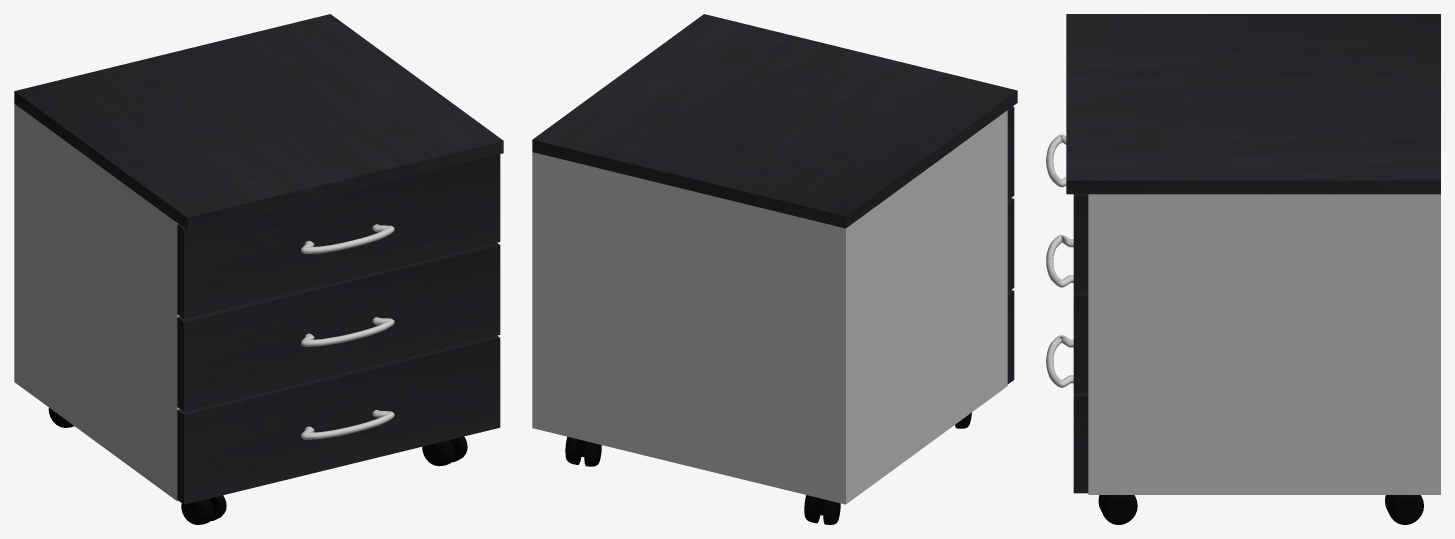
The model's file is sh-lp-cassettiera-w.glb.
3 views of the same model, side by side, from view 1: azimuth 30°, elevation 25°; view 2: azimuth 150°, elevation 25°; view 3: azimuth 270°, elevation 25° (orthographic). The views are drawn at different scales.
Visible parts, largest first — view 1: Box62_1, Box66_5, Line44_6; view 2: Box66_5, Box62_1, Line44_6; view 3: Box66_5, Box62_1, Line44_6.
Part boxes in pixels (x1,y1,x2,y2): Box62_1: (14, 14, 503, 504); Box66_5: (14, 104, 394, 501); Line44_6: (48, 408, 467, 524); Box66_5: (532, 110, 1007, 504); Box62_1: (532, 14, 1017, 384); Line44_6: (565, 412, 971, 524); Box66_5: (1046, 134, 1440, 494); Box62_1: (1066, 14, 1440, 493); Line44_6: (1098, 495, 1423, 524).
Bounding box in the file's own units: 1 × 1 × 1.
3 materials, 1 textured.
